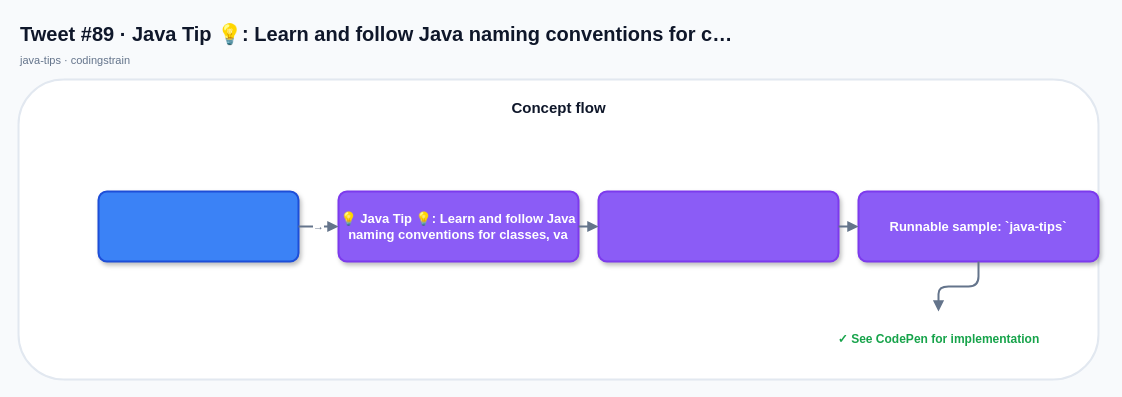
Some shapes in this 1122 by 397 pixel diagram are drawn without their labels. The centre of each missing label's shape, as x and y in pixels:
"Java Tip 💡: Learn and follow Java naming conventions for classes, vari" goes at point (719, 227).
"Problem / context" goes at point (199, 227).
